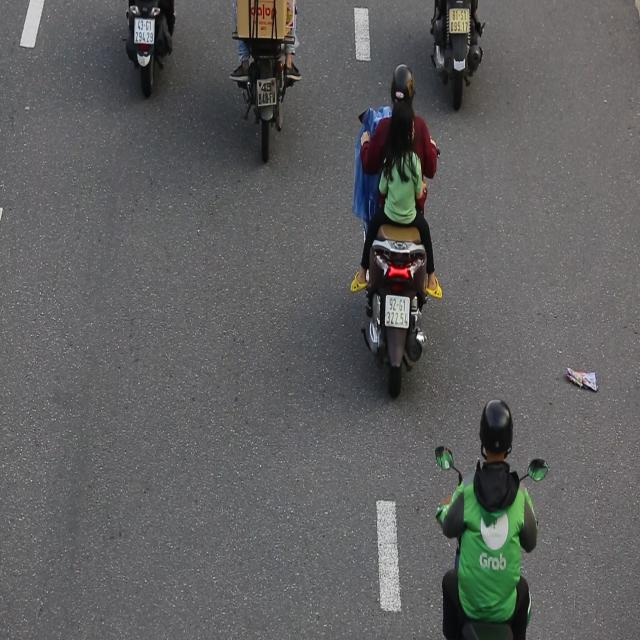motorbike: (346, 57, 442, 404)
